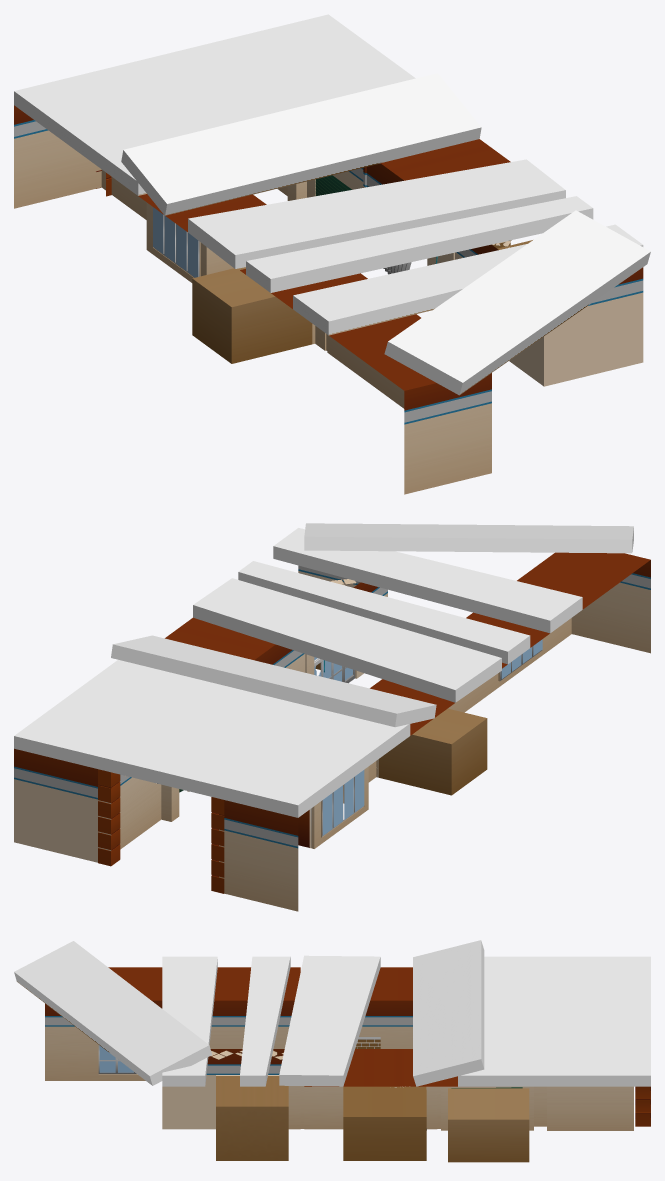
File: Hallway.fbx
The picture shows the model from 3 angles, top to bottom: view 1: azimuth 30°, elevation 25°; view 2: azimuth 150°, elevation 25°; view 3: azimuth 270°, elevation 25°; orthographic projection. The views are drawn at different scales.
Visible parts, largest first — view 1: Cube.007, Wall_Left, Wall_Left.001, Glass3; view 2: Cube.007, Wall_Left, Wall_Left.001, Wall_Left.004, Glass3, Wall_Left.003; view 3: Cube.007, Wall_Left.001, Wall_Left, Wall_Left.004, Glass2.
Part boxes in pixels (left/top/right/bottom): Cube.007: left=14, top=14, right=650, bottom=395; Wall_Left: left=14, top=105, right=491, bottom=494; Wall_Left.001: left=277, top=139, right=643, bottom=386; Glass3: left=153, top=207, right=198, bottom=277; Cube.007: left=14, top=523, right=633, bottom=817; Wall_Left: left=219, top=552, right=650, bottom=911; Wall_Left.001: left=14, top=565, right=387, bottom=862; Wall_Left.004: left=98, top=769, right=120, bottom=866; Glass3: left=323, top=770, right=364, bottom=835; Wall_Left.003: left=211, top=797, right=224, bottom=893; Cube.007: left=14, top=940, right=650, bottom=1086; Wall_Left.001: left=162, top=1049, right=633, bottom=1162; Wall_Left: left=45, top=967, right=412, bottom=1080; Wall_Left.004: left=635, top=1086, right=650, bottom=1126; Glass2: left=99, top=1045, right=133, bottom=1072.
Size of the model in its own units: 2365 by 995 by 5310.
